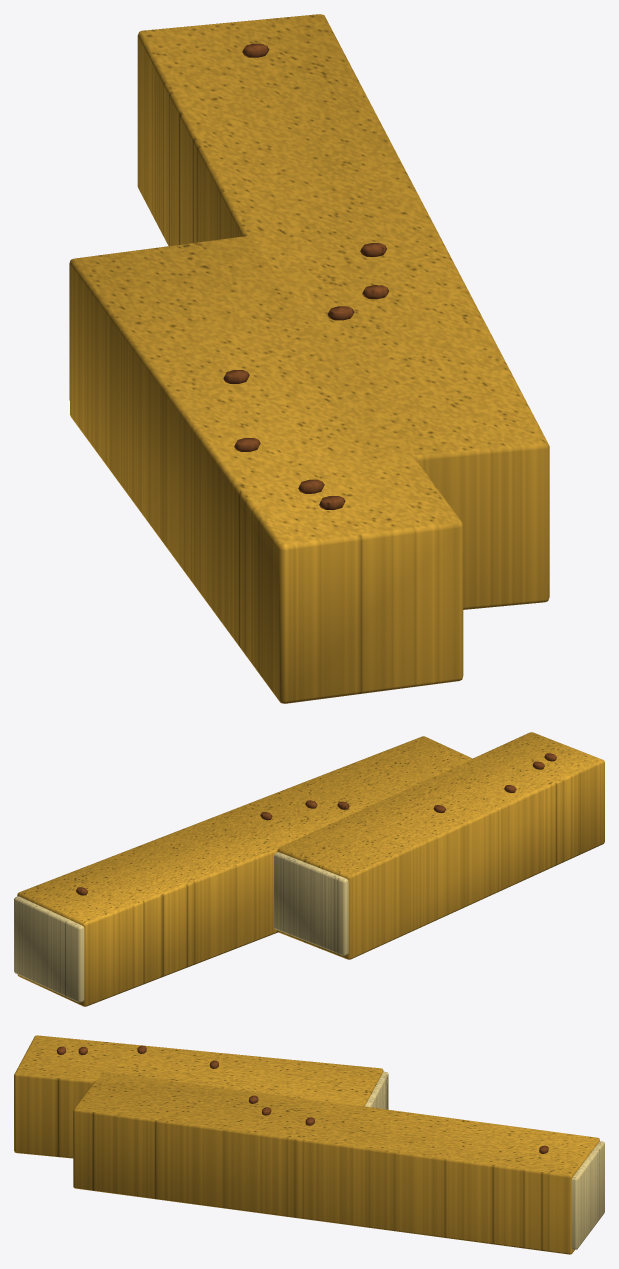
The model's file is food-04-residue.glb.
3 renders of one model, top to bottom at view 1: azimuth 30°, elevation 25°; view 2: azimuth 150°, elevation 25°; view 3: azimuth 270°, elevation 25°, orthographic. The views are drawn at different scales.
Visible parts, largest first — view 1: Food; view 2: Food; view 3: Food.
Boxes of the visible parts, left/top/right/bottom form: Food: left=69, top=14, right=549, bottom=703; Food: left=14, top=732, right=604, bottom=1006; Food: left=14, top=1035, right=604, bottom=1254.
Bounding box in the file's own units: 0.2428 × 0.0681 × 0.4288.
1 material, 1 textured.
